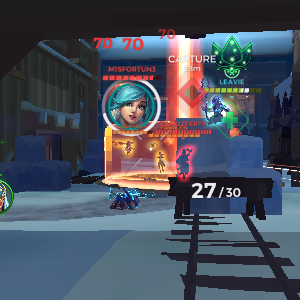model: (175, 145, 192, 180), (115, 138, 136, 159), (155, 144, 167, 177)
